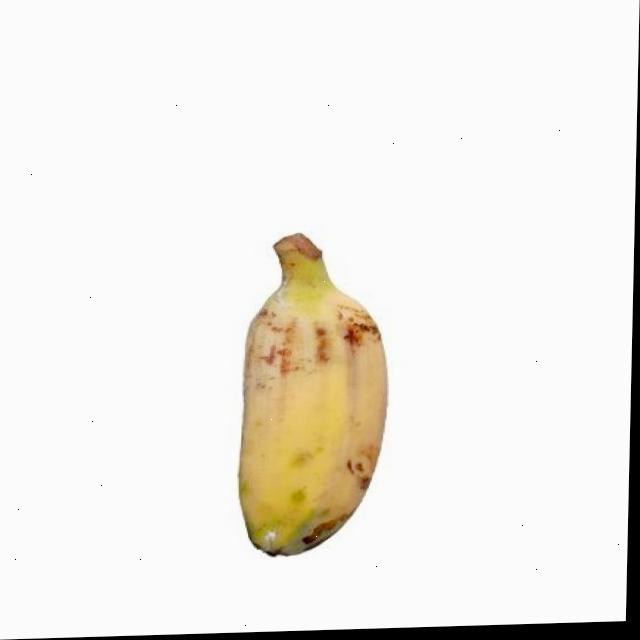banana: (224, 233, 392, 557)
